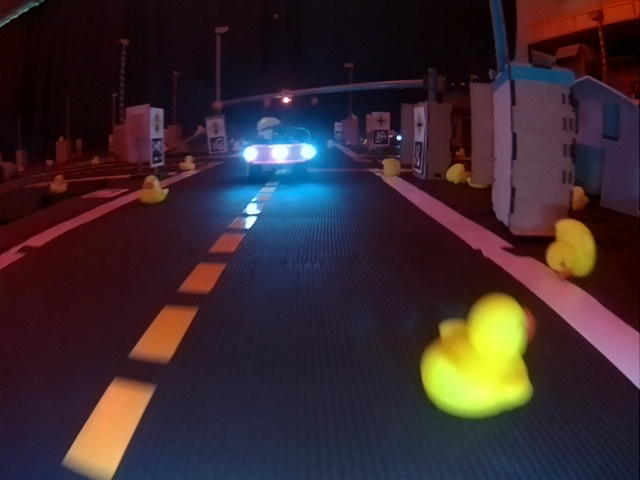Duckie: (421, 293, 527, 400), (546, 221, 592, 279), (140, 176, 168, 198), (447, 165, 467, 184), (49, 175, 67, 192), (383, 158, 400, 176), (181, 157, 195, 169)
Duckiebot: (246, 128, 316, 179)
QR code: (151, 138, 164, 165), (209, 137, 225, 153)
